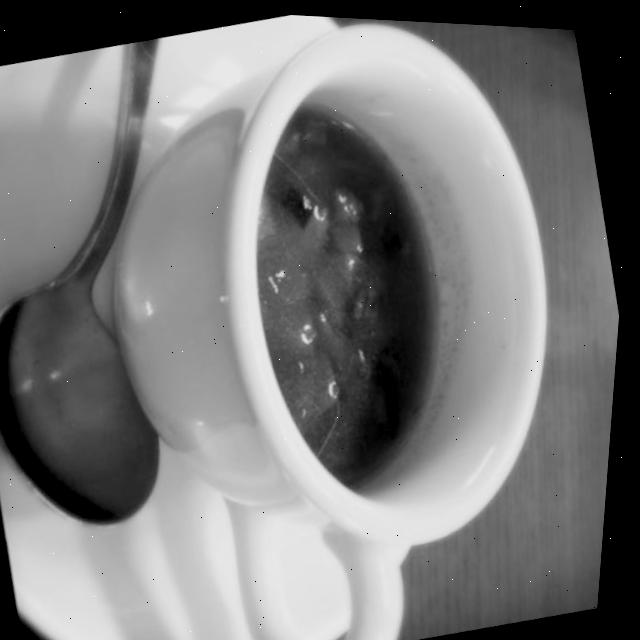汤锅炖物: (117, 6, 616, 588)
